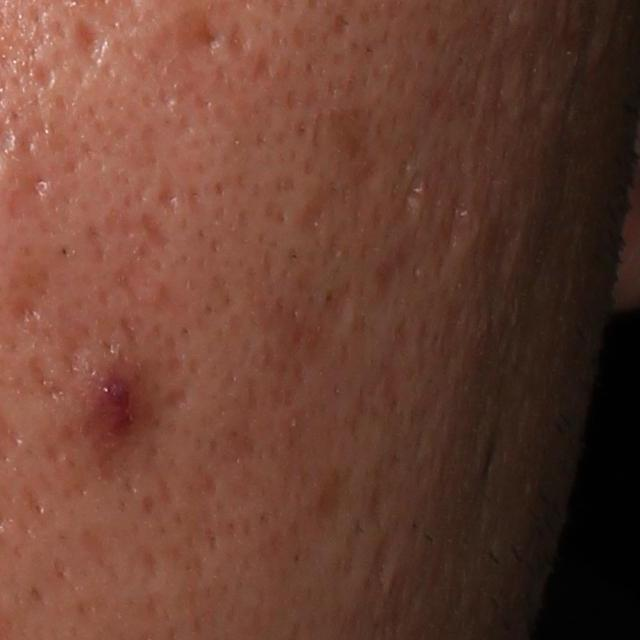atrophic_scar: (2, 172, 61, 238), (53, 297, 93, 378), (438, 183, 476, 264), (176, 4, 226, 60), (24, 351, 68, 408), (264, 305, 308, 355), (109, 259, 147, 309), (76, 18, 109, 68), (321, 284, 354, 330), (139, 208, 174, 251), (299, 189, 325, 244), (399, 172, 428, 219), (157, 161, 178, 214), (10, 295, 41, 330), (353, 159, 382, 193), (31, 57, 56, 94), (254, 46, 274, 84), (165, 387, 187, 411), (331, 14, 352, 37)
papule: (87, 367, 142, 437)
